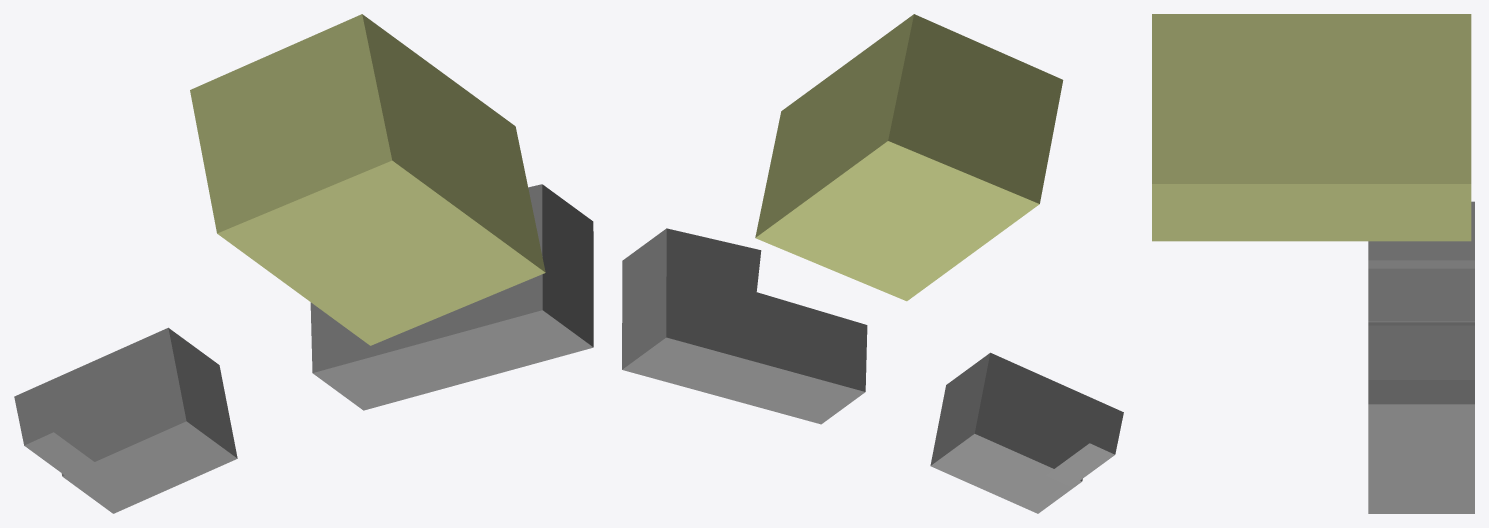
The picture shows the model from 3 angles, left to right: view 1: azimuth 30°, elevation 25°; view 2: azimuth 150°, elevation 25°; view 3: azimuth 270°, elevation 25°; orthographic projection. The views are drawn at different scales.
Visible parts, largest first — view 1: 0_1_0_2_0_0_0_1_2_0; view 2: 0_1_0_2_0_0_0_1_2_0; view 3: 0_1_0_2_0_0_0_1_2_0.
Boxes of the visible parts, <box> form: 0_1_0_2_0_0_0_1_2_0: <box>14,14,593,513</box>; 0_1_0_2_0_0_0_1_2_0: <box>622,14,1123,513</box>; 0_1_0_2_0_0_0_1_2_0: <box>1152,14,1474,513</box>.
Size of the model in its own units: 17.89 by 12.65 by 9.1.
